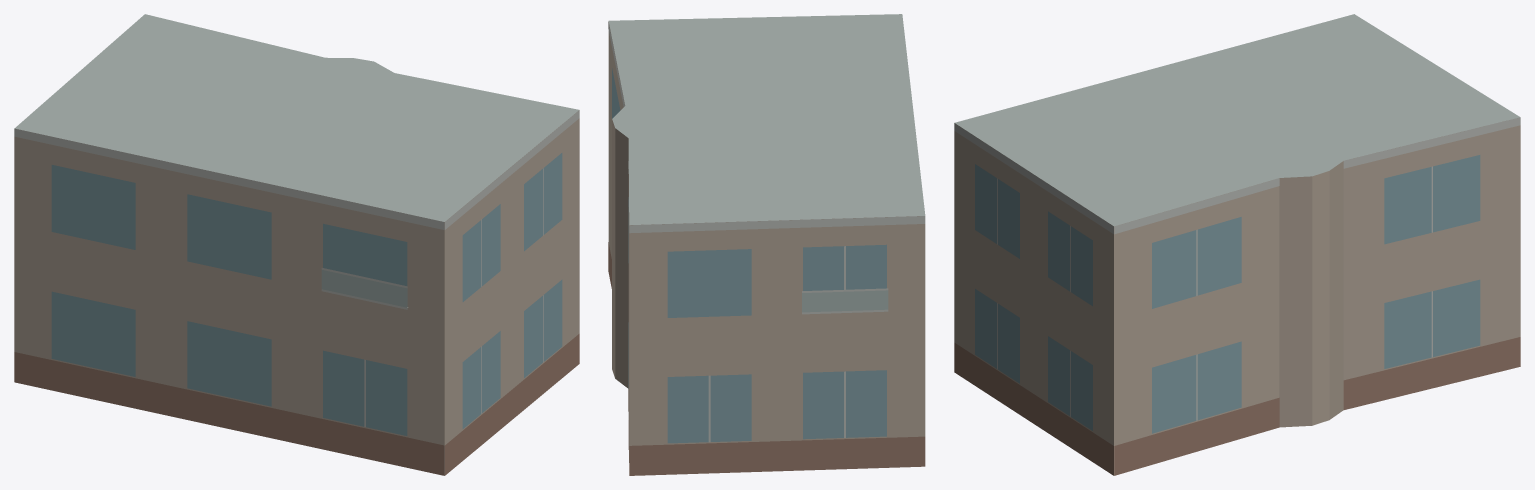
Rendered from survey-upis-32624903.glb.
3 renders of one model, left to right at view 1: azimuth 30°, elevation 25°; view 2: azimuth 150°, elevation 25°; view 3: azimuth 270°, elevation 25°, orthographic.
Parts seen in each view (by area): view 1: survey-upis-32624903.tmp; view 2: survey-upis-32624903.tmp; view 3: survey-upis-32624903.tmp.
Part boxes in pixels (bbox=[...]): survey-upis-32624903.tmp: bbox=[14, 14, 579, 475]; survey-upis-32624903.tmp: bbox=[608, 14, 925, 475]; survey-upis-32624903.tmp: bbox=[954, 14, 1520, 475].
Bounding box in the file's own units: 13.89 × 7.6 × 15.65.
